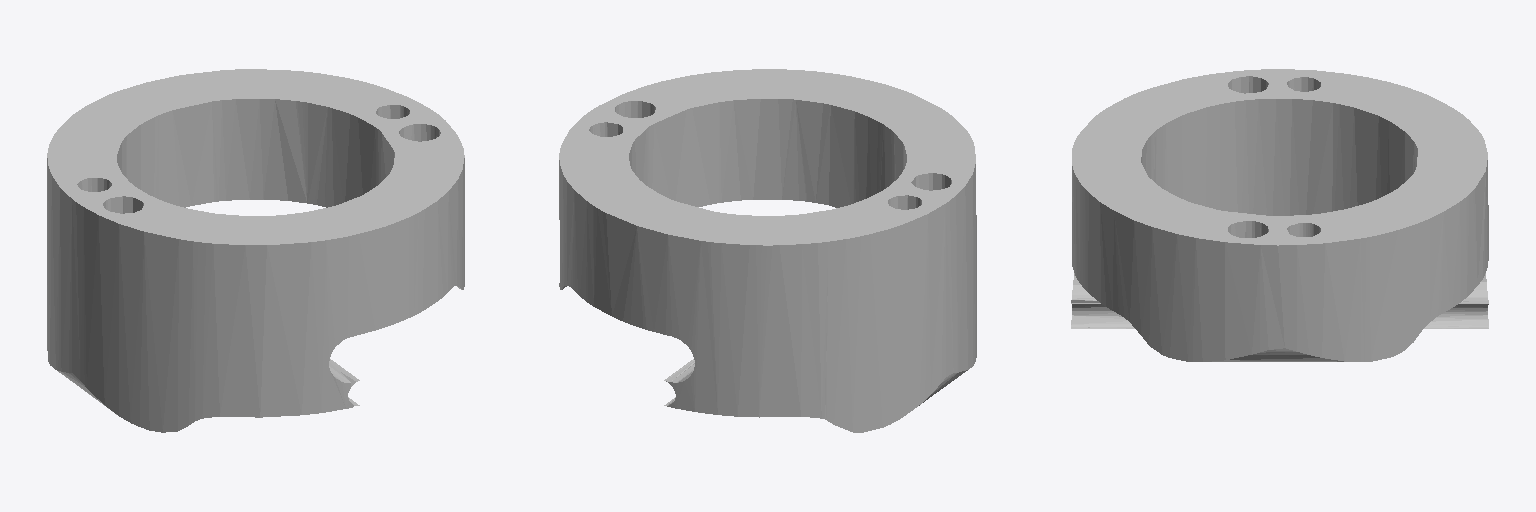
The model's file is seg27.OBJ.
3 views of the same model, side by side, from view 1: azimuth 30°, elevation 25°; view 2: azimuth 150°, elevation 25°; view 3: azimuth 270°, elevation 25° (orthographic).
Parts seen in each view (by area): view 1: /ambf/env/seg27_seg27; view 2: /ambf/env/seg27_seg27; view 3: /ambf/env/seg27_seg27.
Boxes of the visible parts, box(x1,y1,x2,y2) form: /ambf/env/seg27_seg27: box(47, 69, 464, 432); /ambf/env/seg27_seg27: box(559, 69, 976, 432); /ambf/env/seg27_seg27: box(1071, 69, 1488, 361).
Size of the model in its own units: 0.006 by 0.0031 by 0.006.